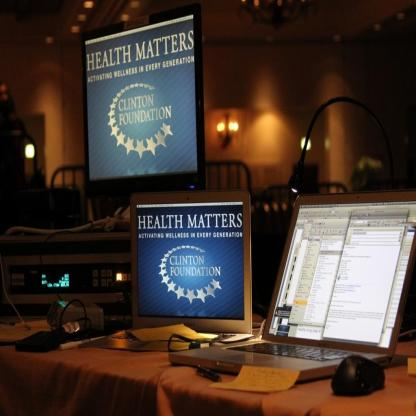board: (168, 193, 416, 384), (79, 193, 252, 353)
